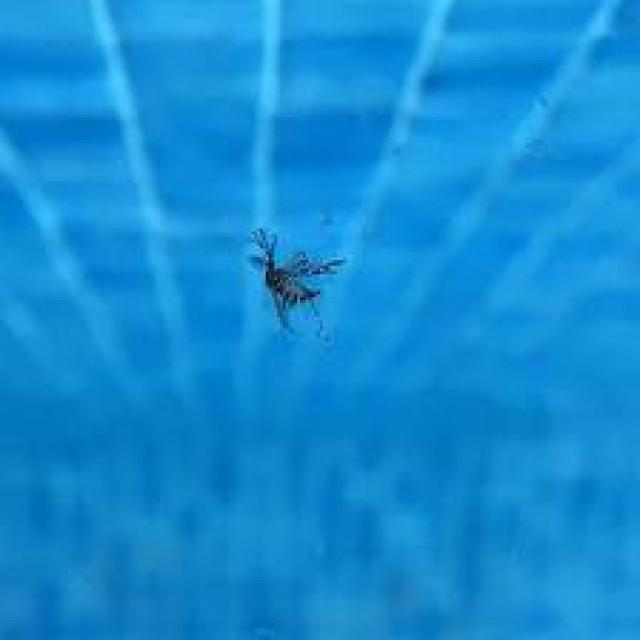Aedes albopictus: (247, 226, 344, 337)
